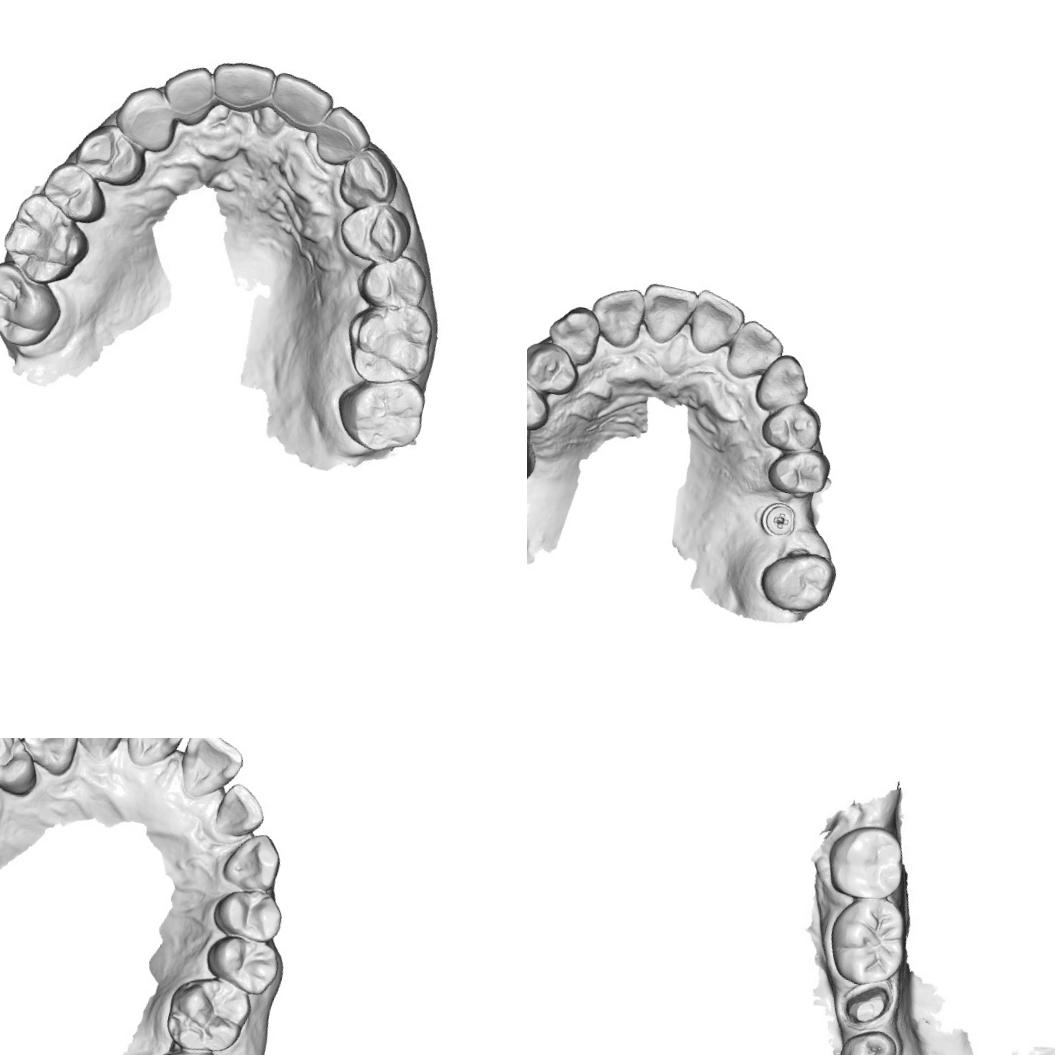canine: (332, 134, 410, 218), (108, 79, 185, 157), (215, 824, 291, 898), (542, 300, 606, 370), (752, 349, 815, 419), (13, 738, 86, 780)
crown: (835, 970, 899, 1036)
implant_plus: (755, 496, 801, 542)
incisor: (172, 738, 252, 808), (305, 96, 373, 173), (262, 69, 338, 136), (684, 287, 751, 362), (203, 53, 279, 118), (722, 314, 789, 387), (156, 57, 221, 132), (584, 279, 650, 352), (633, 278, 699, 351), (207, 777, 273, 846), (116, 738, 193, 776), (67, 738, 132, 768)
molar: (334, 290, 441, 397), (0, 183, 101, 293), (820, 887, 916, 994), (329, 366, 433, 462), (158, 968, 258, 1055), (820, 816, 912, 908), (753, 542, 841, 620), (0, 260, 68, 355), (142, 1035, 234, 1055)
premolar: (196, 926, 286, 1002), (334, 194, 421, 272), (66, 117, 154, 192), (205, 877, 291, 949), (36, 158, 116, 233), (354, 246, 433, 320), (763, 440, 835, 502), (757, 396, 826, 460), (527, 336, 585, 400), (0, 738, 48, 801), (835, 1023, 901, 1055), (527, 369, 556, 435)
